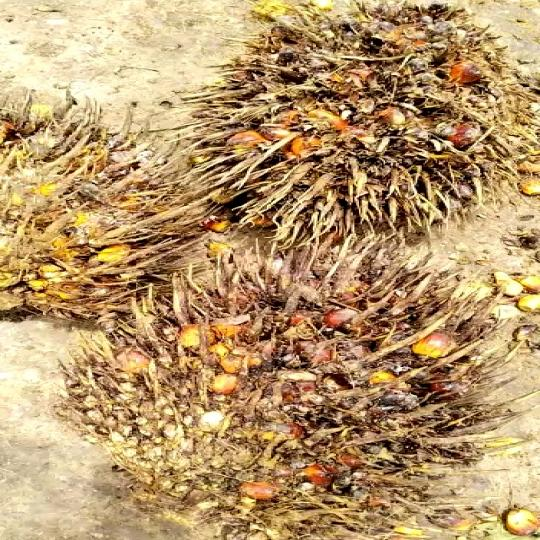terlalu masak: (188, 0, 523, 253)
